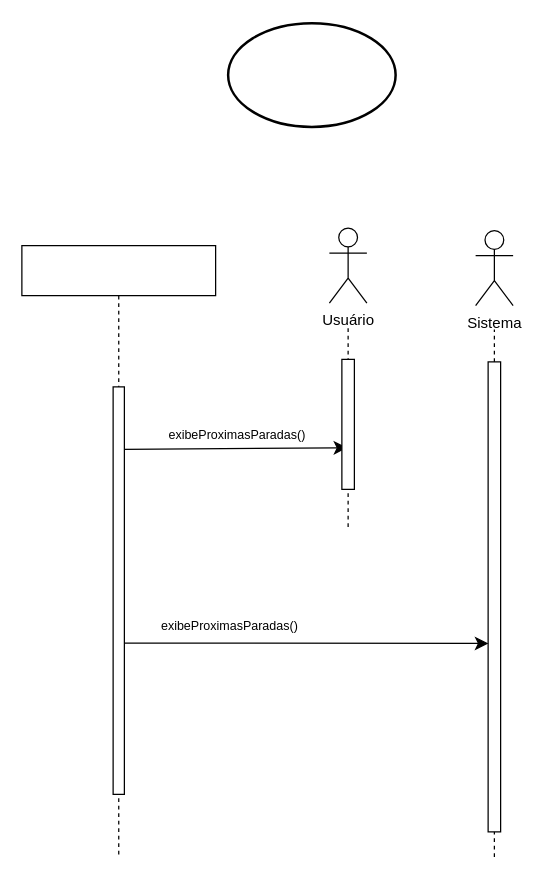
Some shapes in this 543 by 880 pixel diagram are drawn without their labels. Here are the shapes that lost their labels. From the top down, the box of each, then its label:
(226, 21, 396, 128): UC-12 Visualizar Próximas Paradas
(21, 244, 216, 854): :Elevador
